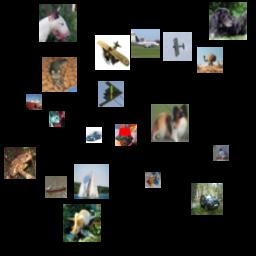airplane: (95, 35, 130, 70), (163, 32, 192, 61), (131, 29, 160, 58), (98, 81, 124, 107)
automobile: (191, 183, 223, 215), (86, 127, 102, 143)
bird: (197, 47, 223, 73), (213, 145, 229, 161)
cat: (63, 204, 101, 242), (42, 57, 77, 92), (49, 111, 65, 127)
dog: (209, 2, 247, 40), (151, 104, 189, 142), (39, 4, 77, 42), (115, 124, 137, 146), (145, 172, 161, 188)
frog: (4, 147, 36, 179)
ship: (74, 164, 109, 199), (45, 176, 67, 198), (26, 94, 42, 110)
